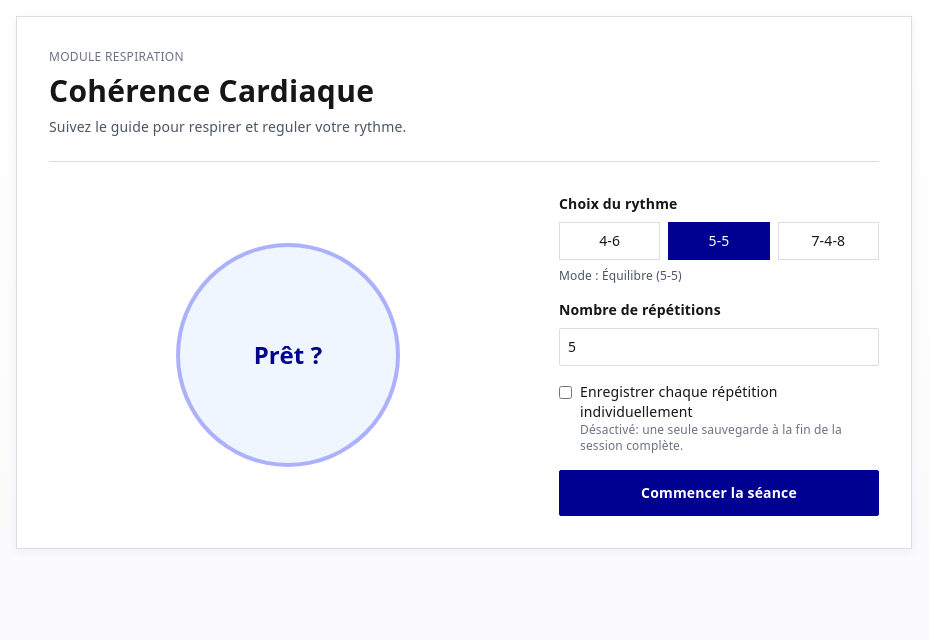
Scenario: Exercise page › starts and stops an exercise session
Click the button "Commencer la séance" at (719, 493), box [559,470,879,516]
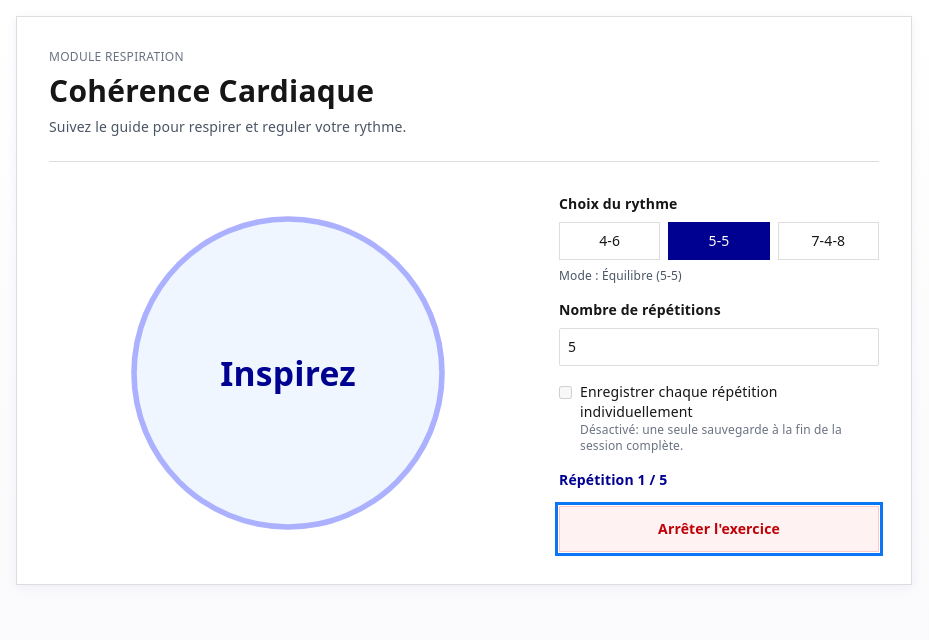
Expected: the number field labelled "Nombre de répétitions" is disabled, [559,328,879,366]
Now the button "Arrêter l'exercice" is shown
Click the button "Arrêter l'exercice" at (719, 529), box [559,506,879,552]
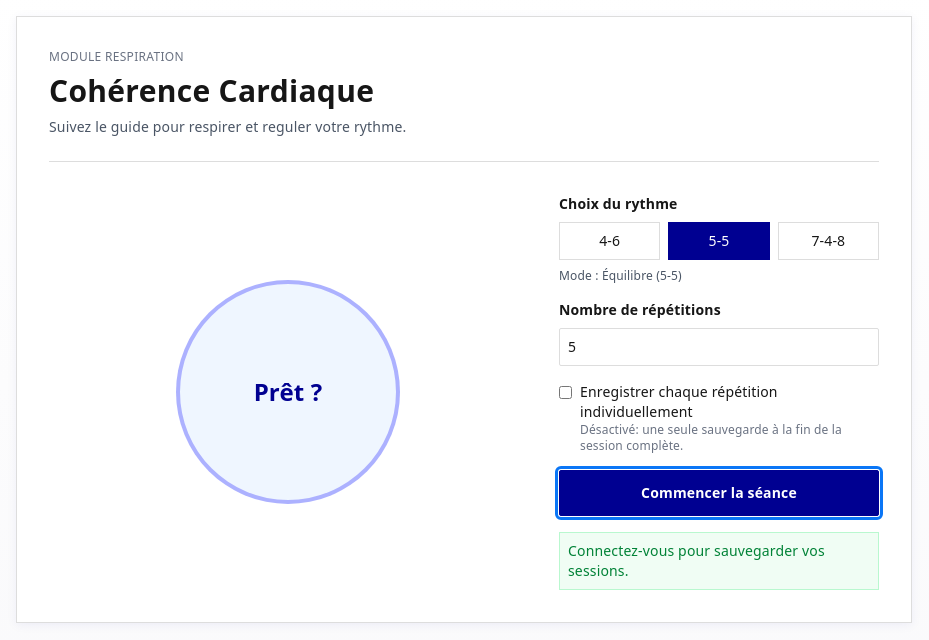
Now the button "Commencer la séance" is shown, box [559,470,879,516]
